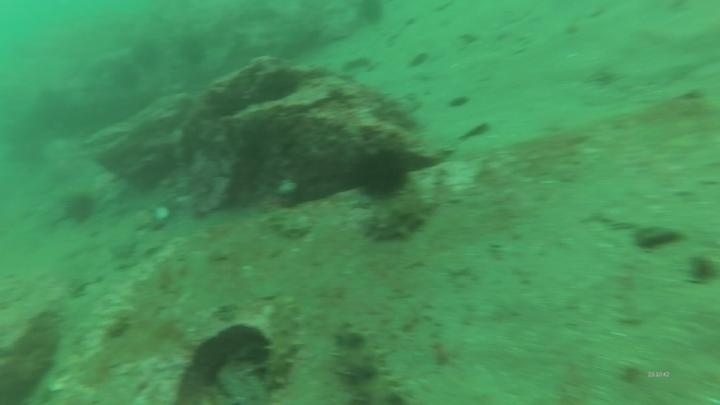echinus: (348, 145, 413, 203), (250, 66, 303, 107), (59, 189, 100, 228), (104, 58, 145, 97), (118, 33, 159, 72), (171, 28, 212, 67), (353, 1, 388, 28)
holothurian: (329, 321, 406, 405), (358, 181, 439, 245), (258, 291, 306, 395)
